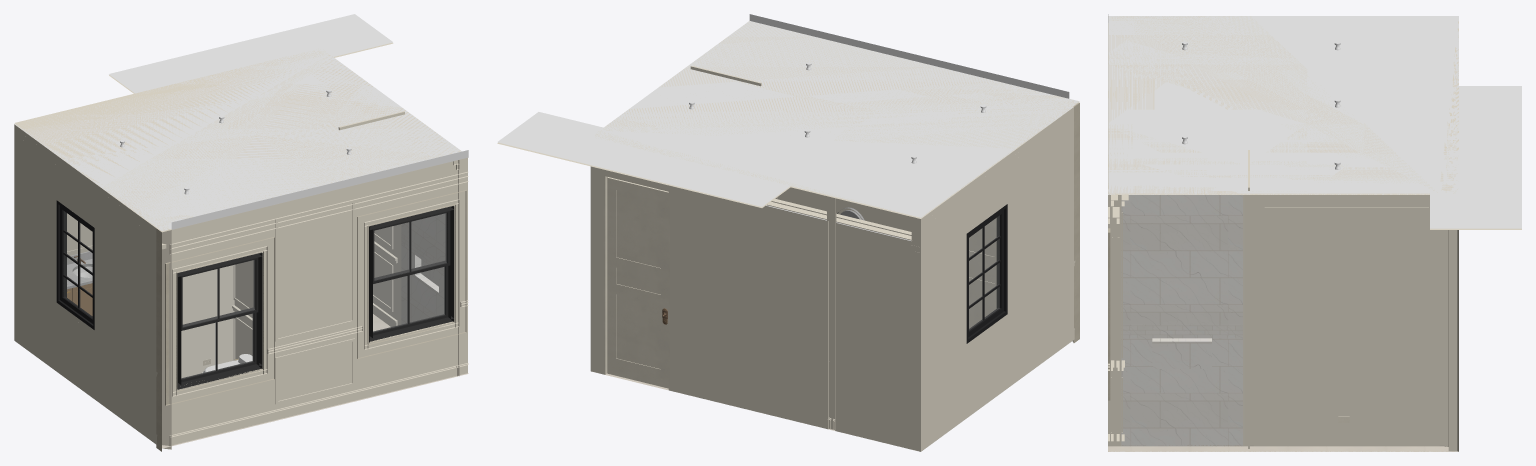
The model's file is primary-bath-6c6cbe62c63e.glb.
3 renders of one model, left to right at view 1: azimuth 30°, elevation 25°; view 2: azimuth 150°, elevation 25°; view 3: azimuth 270°, elevation 25°, orthographic. The views are drawn at different scales.
Visible parts, largest first — view 1: primary-bath-9d91b47435c6fb33, primary-bath-b0ade14315e4f1c3, primary-bath-c51ecd664a3b22a3, primary-bath-e8793759323e04f0, primary-bath-60f0db96f832035a, primary-bath-b5cb73c07919def8, primary-bath-look-9d91b47435c6fb33, primary-bath-10eba734bfa580f9, primary-bath-20932135983111ad, primary-bath-ef64d5096d209f6d, primary-bath-b5339e4b2b15762b, primary-bath-62353aa10fc57f23 (+12 smaller); view 2: primary-bath-9ecc0d558be1c706, primary-bath-9d91b47435c6fb33, primary-bath-c51ecd664a3b22a3, primary-bath-e8793759323e04f0, primary-bath-18f70a4a9eda5dac, primary-bath-look-9d91b47435c6fb33, primary-bath-20932135983111ad, primary-bath-25ea03c5717987c5, primary-bath-e48b5483df8cacdb, primary-bath-b88ac105ef7c3bdb, primary-bath-62353aa10fc57f23, primary-bath-1a6c50e4c3accb7b (+2 smaller); view 3: primary-bath-9d91b47435c6fb33, primary-bath-fc6585fecfaf7ec3, primary-bath-e8793759323e04f0, primary-bath-3d8660a29b1e398e, primary-bath-2bc0761cc32b9613, primary-bath-look-9d91b47435c6fb33, primary-bath-c791a0f218fead78, primary-bath-9ecc0d558be1c706, primary-bath-343da8f45fc39332, primary-bath-b3921aced1f99593, primary-bath-b3dc771ed6f89851, primary-bath-38b306e83be12a4b (+8 smaller).
Part boxes in pixels (box(x1,y1,x2,y2)): primary-bath-9d91b47435c6fb33: box(18, 48, 468, 232); primary-bath-b0ade14315e4f1c3: box(171, 157, 467, 434); primary-bath-c51ecd664a3b22a3: box(14, 124, 156, 444); primary-bath-e8793759323e04f0: box(14, 51, 468, 229); primary-bath-60f0db96f832035a: box(177, 252, 262, 389); primary-bath-b5cb73c07919def8: box(369, 206, 454, 342); primary-bath-look-9d91b47435c6fb33: box(109, 14, 393, 93); primary-bath-10eba734bfa580f9: box(184, 265, 234, 377); primary-bath-20932135983111ad: box(56, 200, 94, 329); primary-bath-ef64d5096d209f6d: box(169, 363, 468, 445); primary-bath-b5339e4b2b15762b: box(169, 171, 468, 254); primary-bath-62353aa10fc57f23: box(156, 228, 171, 451); primary-bath-9ecc0d558be1c706: box(590, 166, 919, 451); primary-bath-9d91b47435c6fb33: box(591, 21, 1079, 218); primary-bath-c51ecd664a3b22a3: box(911, 107, 1073, 451); primary-bath-e8793759323e04f0: box(595, 14, 1077, 210); primary-bath-18f70a4a9eda5dac: box(607, 177, 668, 388); primary-bath-look-9d91b47435c6fb33: box(497, 112, 790, 207); primary-bath-20932135983111ad: box(966, 204, 1007, 343); primary-bath-25ea03c5717987c5: box(969, 218, 996, 328); primary-bath-e48b5483df8cacdb: box(827, 196, 836, 430); primary-bath-b88ac105ef7c3bdb: box(603, 174, 669, 390); primary-bath-62353aa10fc57f23: box(1072, 103, 1079, 342); primary-bath-1a6c50e4c3accb7b: box(777, 187, 879, 224); primary-bath-9d91b47435c6fb33: box(1108, 16, 1458, 194); primary-bath-fc6585fecfaf7ec3: box(1248, 193, 1458, 451); primary-bath-e8793759323e04f0: box(1108, 14, 1458, 193); primary-bath-3d8660a29b1e398e: box(1121, 195, 1242, 324); primary-bath-2bc0761cc32b9613: box(1121, 338, 1242, 446); primary-bath-look-9d91b47435c6fb33: box(1430, 86, 1521, 229); primary-bath-c791a0f218fead78: box(1108, 189, 1247, 451); primary-bath-9ecc0d558be1c706: box(1447, 230, 1458, 451); primary-bath-343da8f45fc39332: box(1253, 434, 1439, 446); primary-bath-b3921aced1f99593: box(1108, 446, 1457, 451); primary-bath-b3dc771ed6f89851: box(1264, 207, 1428, 352); primary-bath-38b306e83be12a4b: box(1121, 324, 1242, 338).
Size of the model in its own units: 5.14 by 3.04 by 4.23.
Materials: 37 (8 with a texture image).
